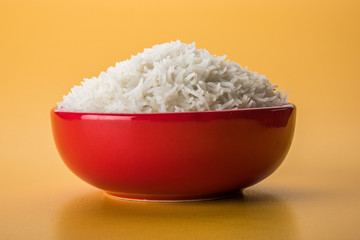plain rice: (74, 48, 278, 106)
